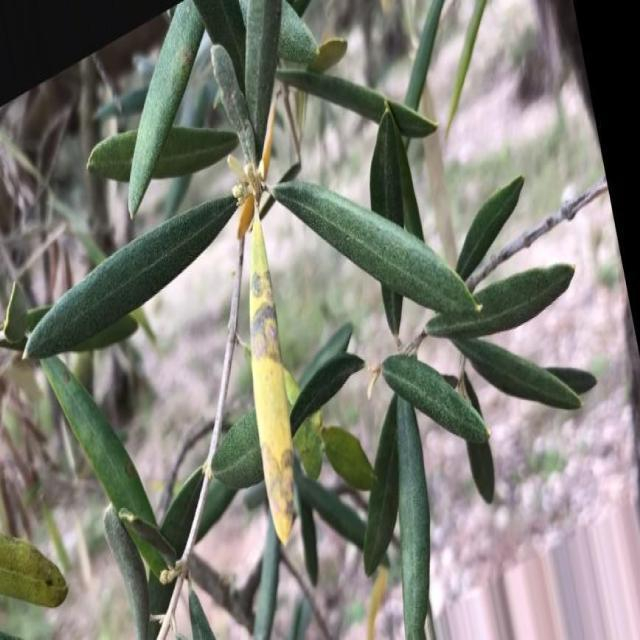OlivePeacockSpot: (248, 208, 294, 534)
